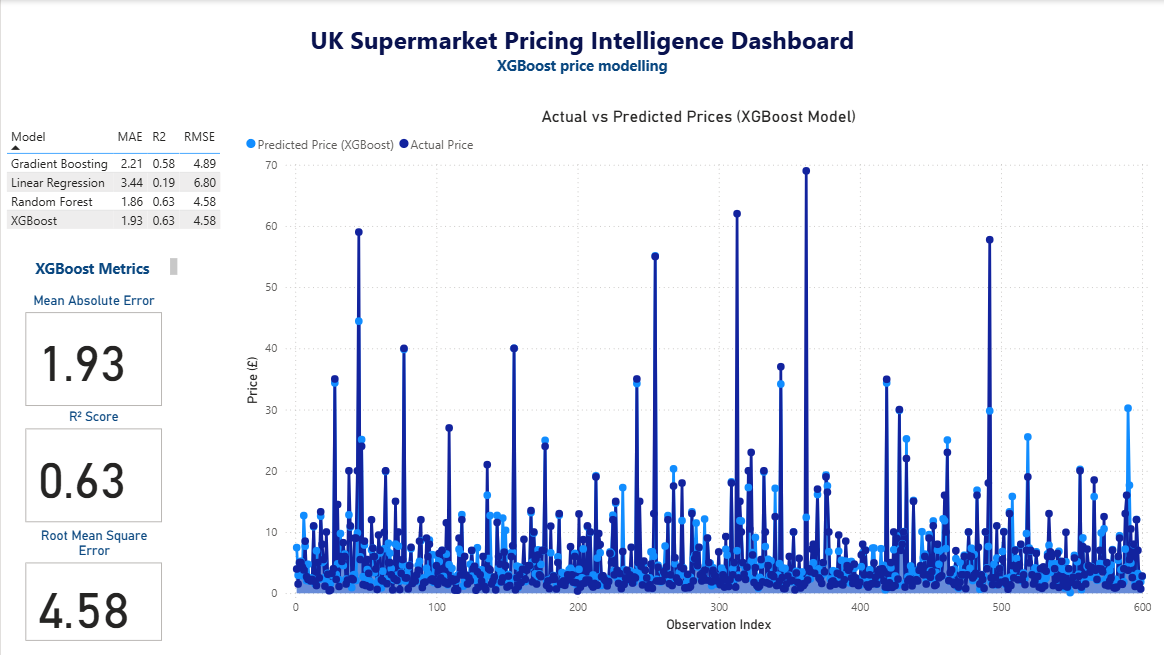

What the dashboard file says about the page in this screenshot:
{"tool":"powerbi","page":{"name":"Page 2","canvas":[1280,720],"ordinal":1},"visuals":[{"type":"lineChart","title":"Actual vs Predicted Prices (XGBoost Model)","fields":{"Category":["ML_predictions_2026-04-15-1933.Index.1"],"Y":["Avg(ML_predictions_2026-04-15-1933.XGBOOST_PRED)","Avg(ML_predictions_2026-04-15-1933.ACTUAL)"]},"box":[263.5,116.6,1004.5,581.8],"z":0},{"type":"textbox","box":[100.2,20.6,1075.8,79.6],"z":1000},{"type":"tableEx","fields":{"Values":["model_performance.Model","Sum(model_performance.MAE)","Sum(model_performance.R2 Score)","Sum(model_performance.RMSE)"]},"box":[0,134.5,252.5,141.3],"z":2000},{"type":"cardVisual","title":"Mean Absolute Error","fields":{"Data":["Avg(model_performance.MAE)"]},"box":[22,321.1,160,130],"z":3000},{"type":"cardVisual","title":"R² Score","fields":{"Data":["Avg(model_performance.R2 Score)"]},"box":[22,448.7,160,130],"z":4000},{"type":"cardVisual","title":"Root Mean Square Error","fields":{"Data":["Avg(model_performance.RMSE)"]},"box":[22,579.1,160.5,130.4],"z":5000},{"type":"textbox","box":[9.6,278.6,189.4,30.2],"z":6000}]}

Visuals, with their boxes in screenshot pixels (x1, y1, x2, y2), scaled from the page's 1280x720 canvas onto the 1164x655 screenshot:
"Actual vs Predicted Prices (XGBoost Model)" lineChart: (240, 106, 1153, 635)
textbox: (91, 19, 1069, 91)
tableEx - model_performance.Model x Sum(model_performance.MAE): (0, 122, 230, 251)
"Mean Absolute Error" cardVisual: (20, 292, 166, 410)
"R² Score" cardVisual: (20, 408, 166, 526)
"Root Mean Square Error" cardVisual: (20, 527, 166, 645)
textbox: (9, 253, 181, 281)
